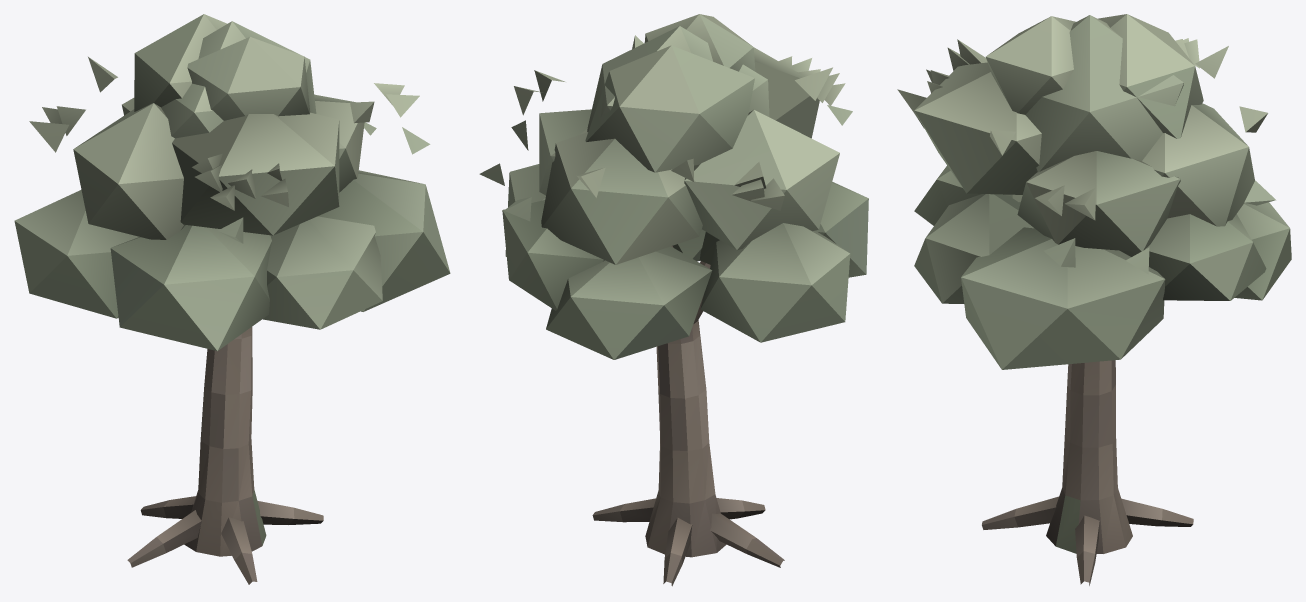
Rendered from oak.glb.
3 views of the same model, side by side, from view 1: azimuth 30°, elevation 25°; view 2: azimuth 150°, elevation 25°; view 3: azimuth 270°, elevation 25° (orthographic). The views are drawn at different scales.
Size of the model in its own units: 4.91 by 6.64 by 4.48.
